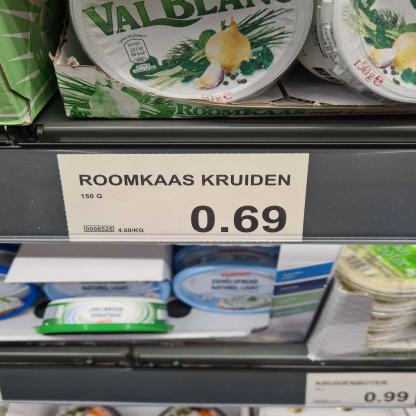prtg: (56, 155, 311, 243)
